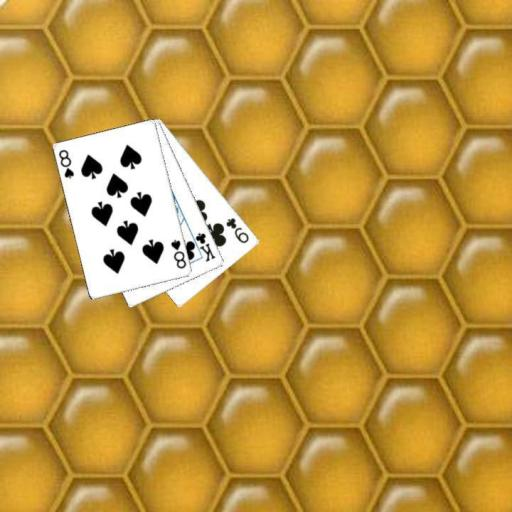card-corner: (188, 230, 217, 263), (223, 214, 251, 244), (56, 146, 76, 180), (168, 237, 188, 270)
